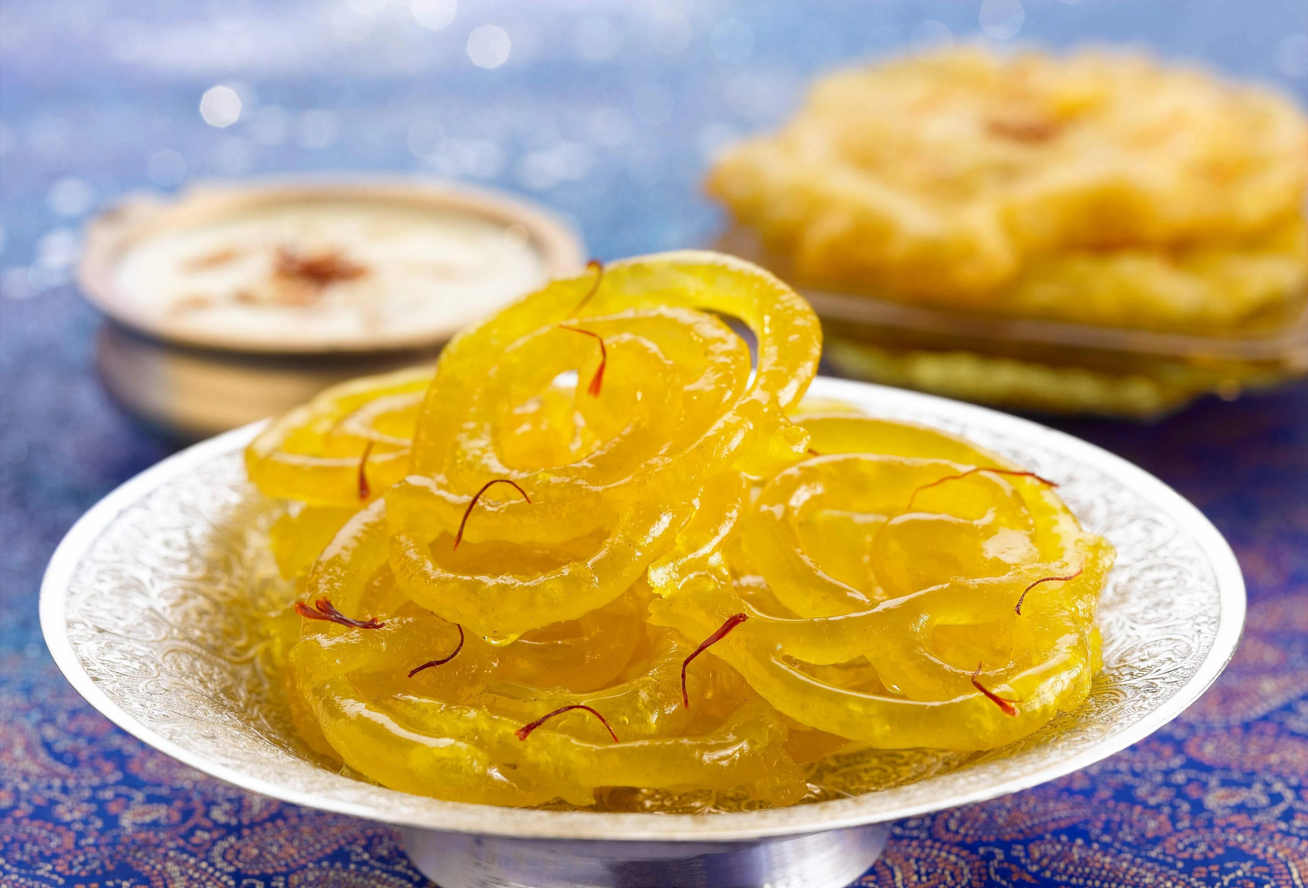Jalebi: (232, 236, 1113, 808)
